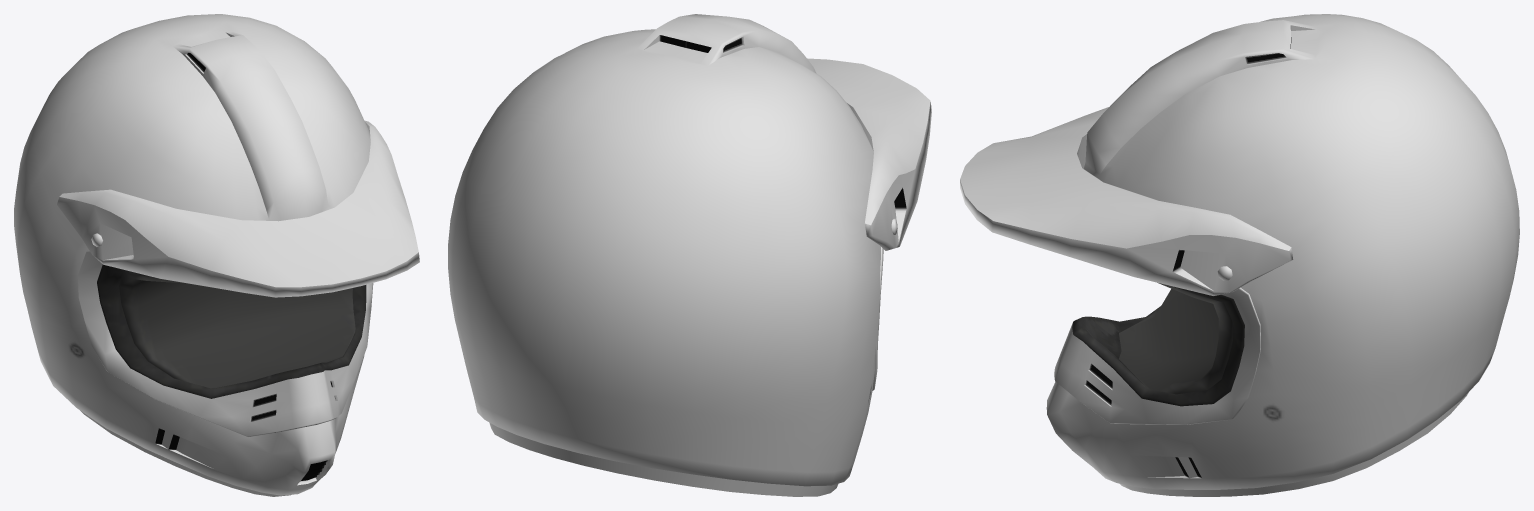
Rendered from p0_hdw0108_00_hdw00.gltf.
3 views of the same model, side by side, from view 1: azimuth 30°, elevation 25°; view 2: azimuth 150°, elevation 25°; view 3: azimuth 270°, elevation 25° (orthographic). The views are drawn at different scales.
Parts seen in each view (by area): view 1: hdw00_met_mesh_shape:cap; view 2: hdw00_met_mesh_shape:cap; view 3: hdw00_met_mesh_shape:cap.
Boxes of the visible parts, box(x1,y1,x2,y2) form: hdw00_met_mesh_shape:cap: box(14, 14, 419, 496); hdw00_met_mesh_shape:cap: box(448, 14, 931, 496); hdw00_met_mesh_shape:cap: box(960, 14, 1519, 496).
Size of what is drawn, in the model's own units: 0.2902 by 0.341 by 0.3878.
Materials: 2 (1 with a texture image).
